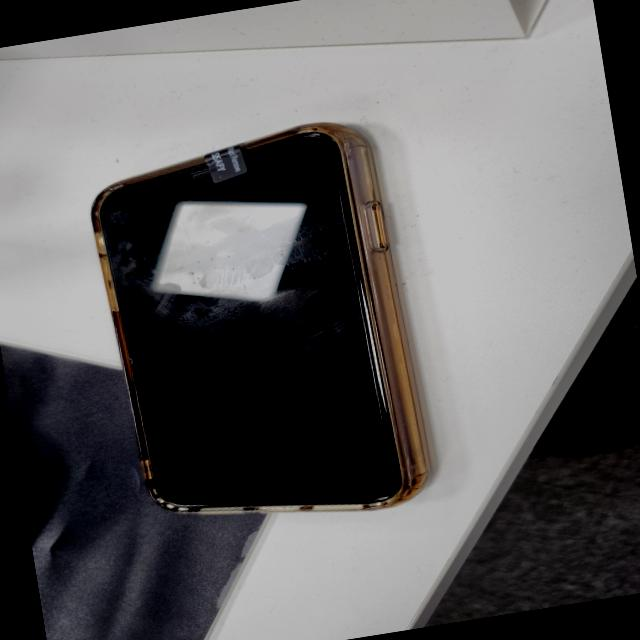phone: (89, 111, 438, 546)
sticker: (201, 142, 252, 183)
